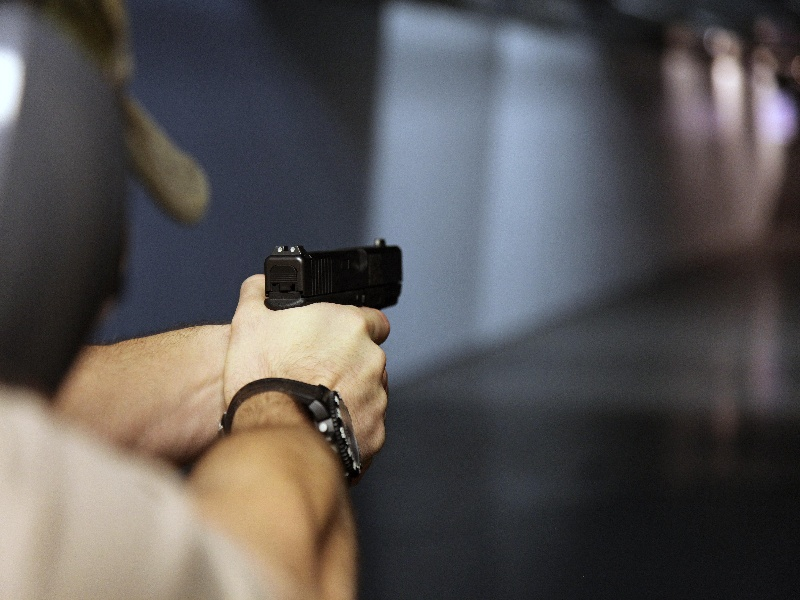gun: (261, 238, 415, 437)
